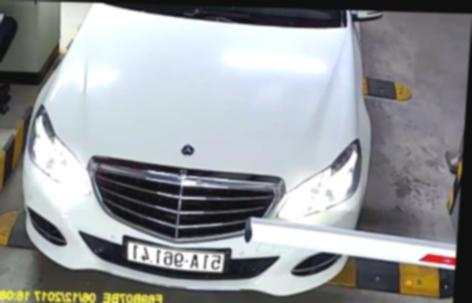License_Plate: (120, 242, 232, 275)
